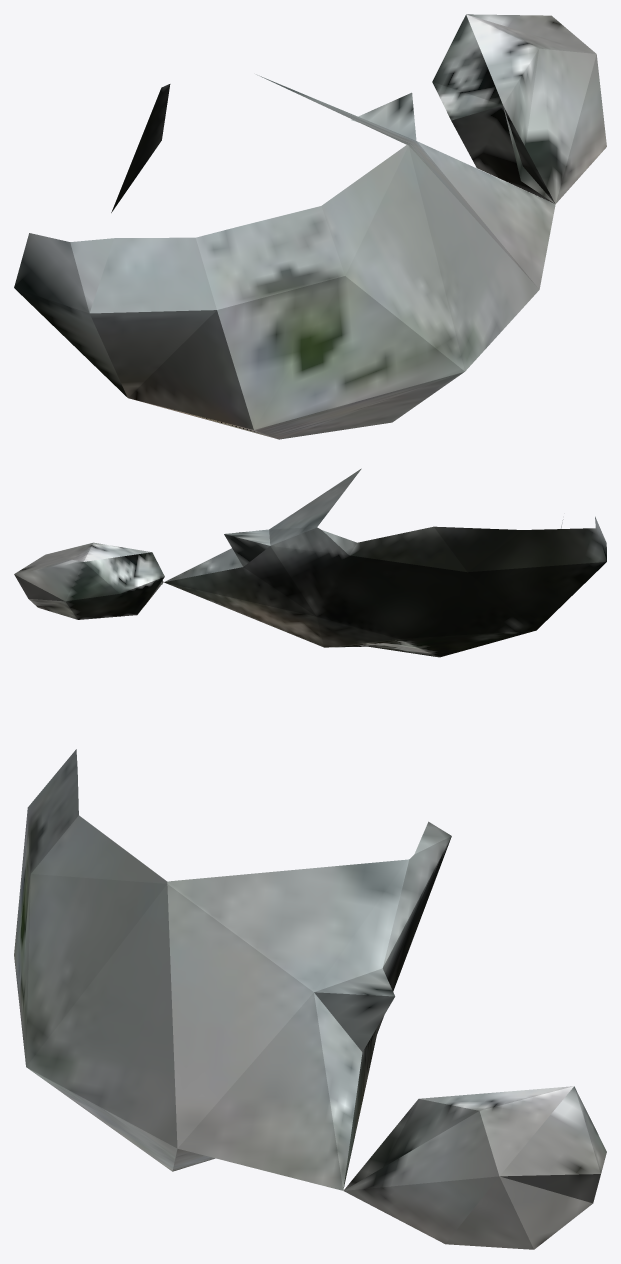
3 renders of one model, top to bottom at view 1: azimuth 30°, elevation 25°; view 2: azimuth 150°, elevation 25°; view 3: azimuth 270°, elevation 25°, orthographic. The views are drawn at different scales.
Bounding box in the file's own units: 0.2802 × 0.1005 × 0.1822.
Materials: 1 (1 with a texture image).
